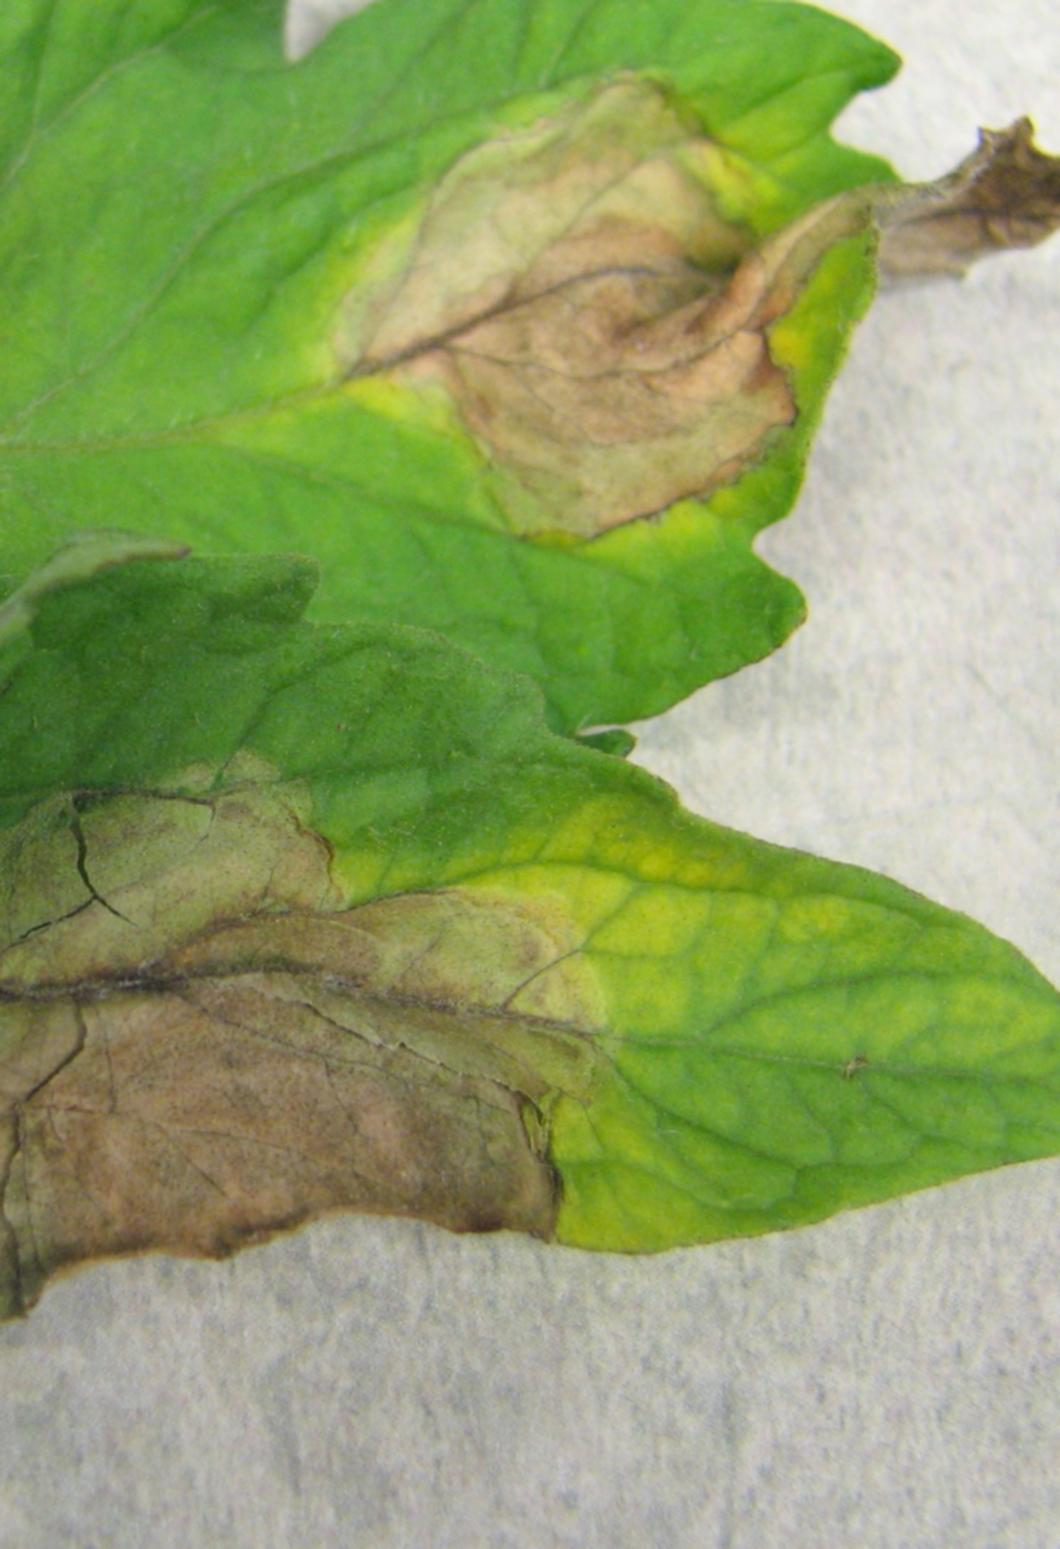Tomato leaf late blight: (0, 554, 1060, 1394), (0, 0, 1060, 673)
